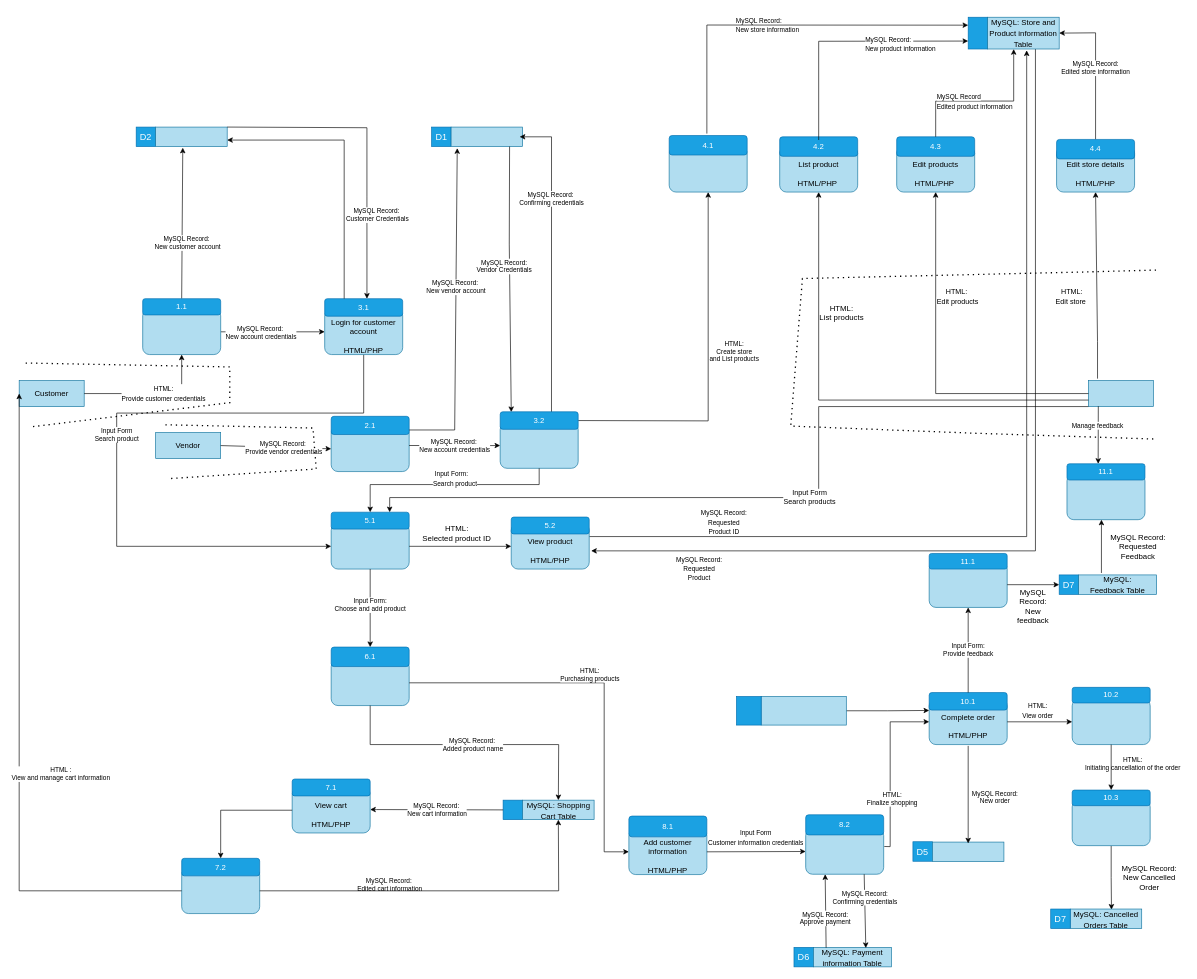
Some shapes in this 1197 by 979 pixel diagram are drawn without their labels. Here are the shapes that lost their labels. From the top down, the centre of each, then its label:
At (x=978, y=33): "D3".
At (x=191, y=136): "MySQL: Customer accounts Table".
At (x=486, y=136): "MySQL: Vendor accounts Table".
At (x=708, y=169): "Create store HTML/PHP".
At (x=181, y=331): "Register for customer account HTML/PHP".
At (x=1120, y=393): "Administrator".
At (x=370, y=448): "Register for vendor account HTML/PHP".
At (x=539, y=445): "Login for Vendor account HTML/PHP".
At (x=1105, y=497): "Edit feedback HTML/PHP".
At (x=370, y=546): "Search products Request HTML/PHP".
At (x=968, y=584): "Give feedback HTML/PHP".
At (x=370, y=682): "Add to cart HTML/PHP".
At (x=748, y=710): "D8".
At (x=803, y=710): "Paper Form: Backup files of payment".
At (x=1111, y=721): "Order Status Page Request HTML/PHP".
At (x=512, y=810): "D4".
At (x=1111, y=823): "Cancel the order HTML/PHP".
At (x=844, y=851): "Add payment information HTML/PHP".
At (x=968, y=851): "MySQL: Order information Table".
At (x=220, y=890): "Edit Cart HTML/PHP".
